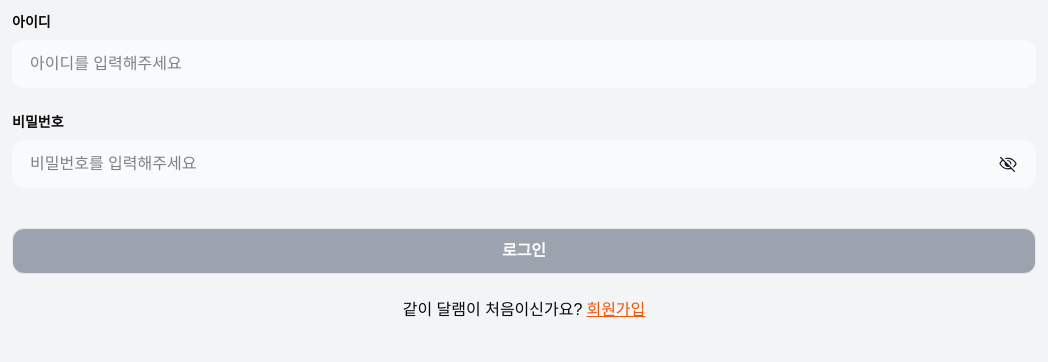
Test: SigninForm 통합 테스트 › 아이디 형식이 맞지 않으면 "이메일 형식이 올바르지 않습니다"라는 에러 메시지가 표시된다 › 1초간 입력 없음 (debounce)
Focus the field labelled "아이디" at (524, 64), box x1=30 y1=52 x2=1018 y2=76
Wait 1000 ms
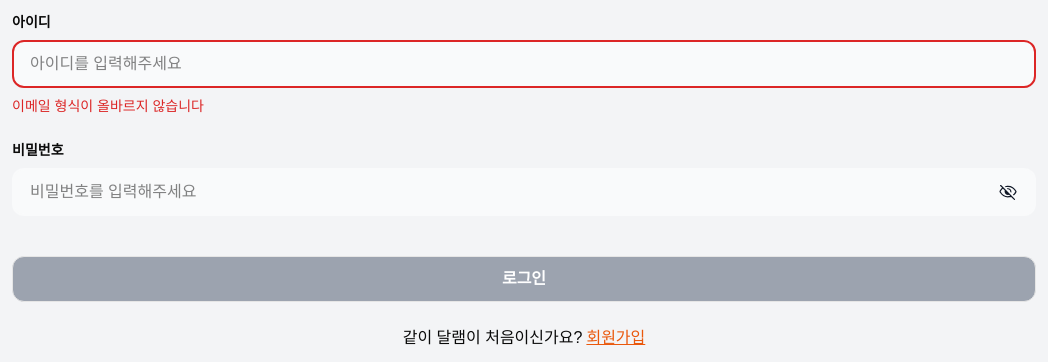
expect the text "이메일 형식이 올바르지 않습니다" is shown: met, box x1=12 y1=98 x2=204 y2=114
